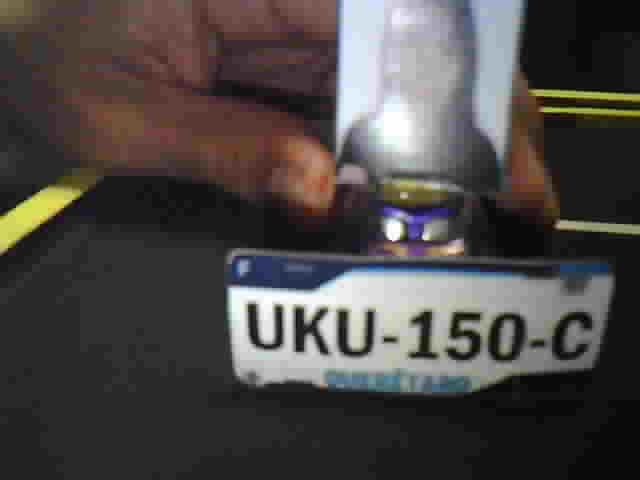PLACA: (221, 244, 618, 406)
ROSTRO: (337, 1, 500, 179)
